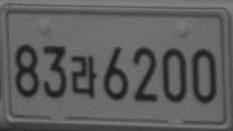0: (191, 48, 217, 103), (162, 47, 187, 102)
2: (132, 46, 157, 100)
3: (42, 45, 67, 98)
6: (103, 46, 128, 100)
8: (15, 43, 39, 97)
라: (70, 55, 97, 98)
